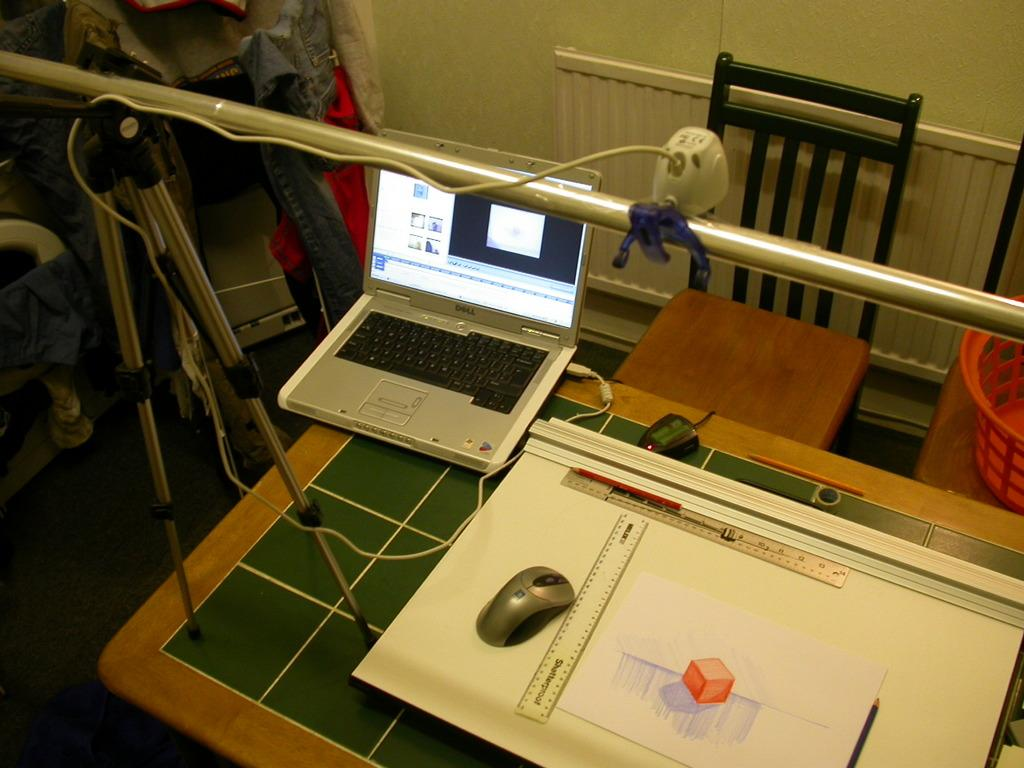Computer-keyboard: (338, 309, 551, 415)
Laptop: (280, 128, 600, 477)
